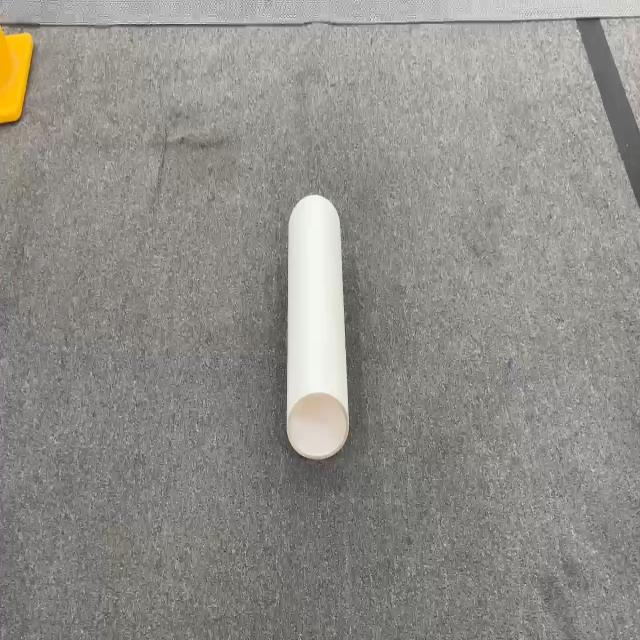coral: (285, 193, 350, 459)
